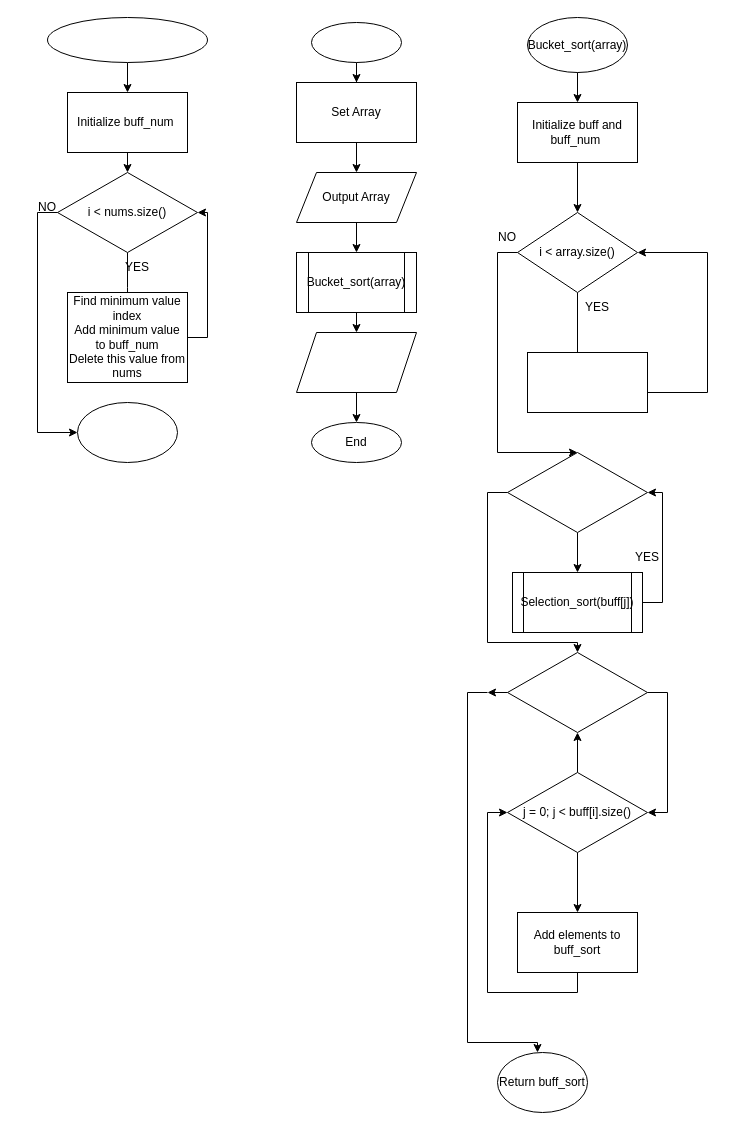
This 733x1130 diagram has some shape labels left out. Here are the shapes that lost their labels. From the top down, the centre of each, then its label:
(127,39): Selection_sort(vector<int> nums)
(356,42): Start
(356,362): Output sorted array
(587,382): Place each element in its bucket by its index
(127,432): Return buff_num
(577,492): j = 0;j < buff.size()
(577,692): i = 0; i < buff.size()
